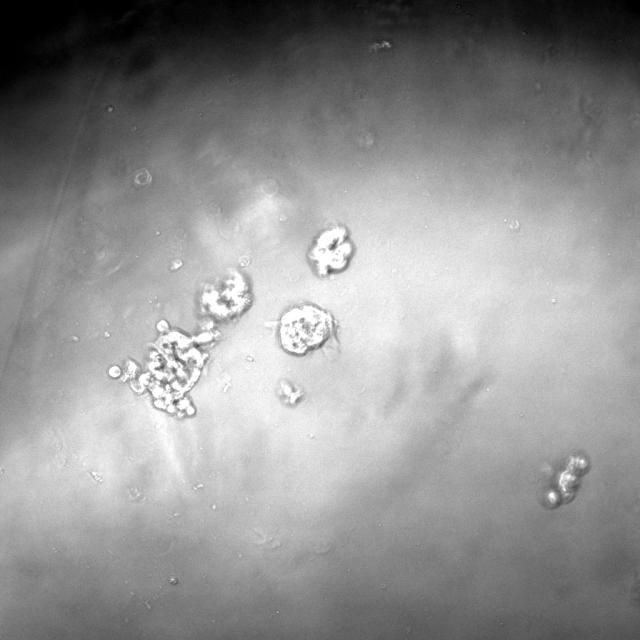organoid: (106, 270, 253, 415), (539, 452, 590, 509), (280, 304, 333, 354), (308, 224, 355, 277), (276, 379, 303, 405)
